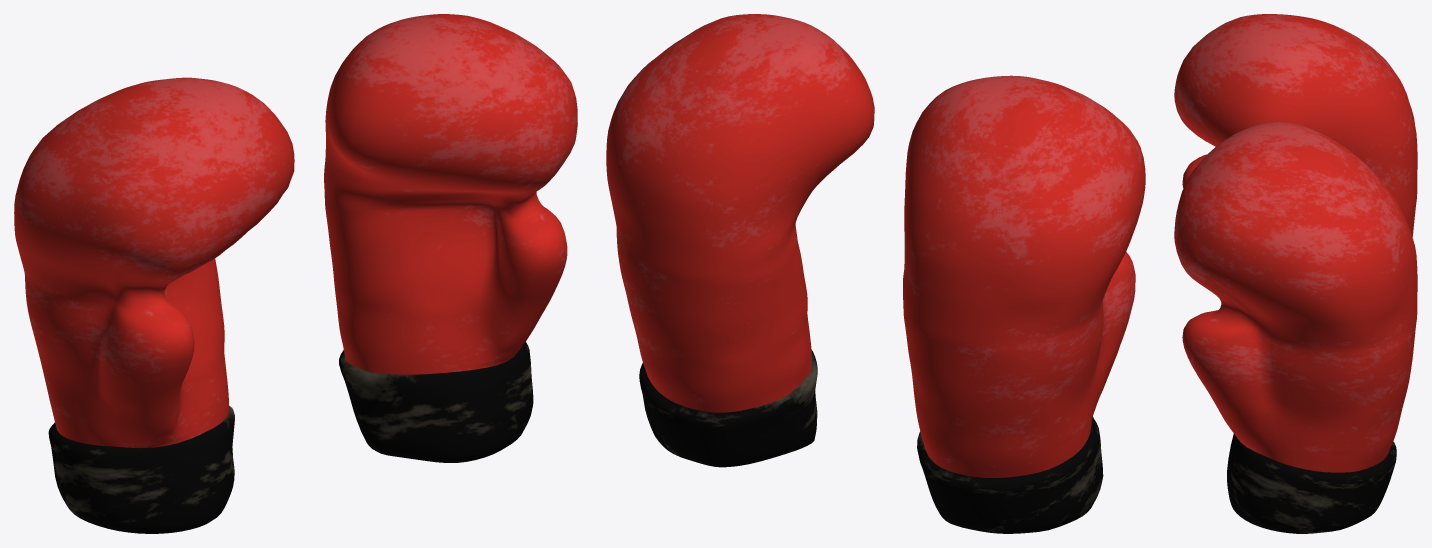
3 views of the same model, side by side, from view 1: azimuth 30°, elevation 25°; view 2: azimuth 150°, elevation 25°; view 3: azimuth 270°, elevation 25° (orthographic). The views are drawn at different scales.
Parts seen in each view (by area): view 1: manche.001, manche; view 2: manche, manche.001; view 3: manche.001, manche.
Part boxes in pixels (x1,y1,x2,y2): manche.001: (324, 14, 577, 462); manche: (14, 77, 294, 533); manche: (903, 75, 1145, 533); manche.001: (606, 14, 874, 467); manche.001: (1174, 122, 1417, 533); manche: (1174, 14, 1417, 236).
Size of the model in its own units: 6.28 by 4.76 by 2.9.
1 material, 1 textured.
